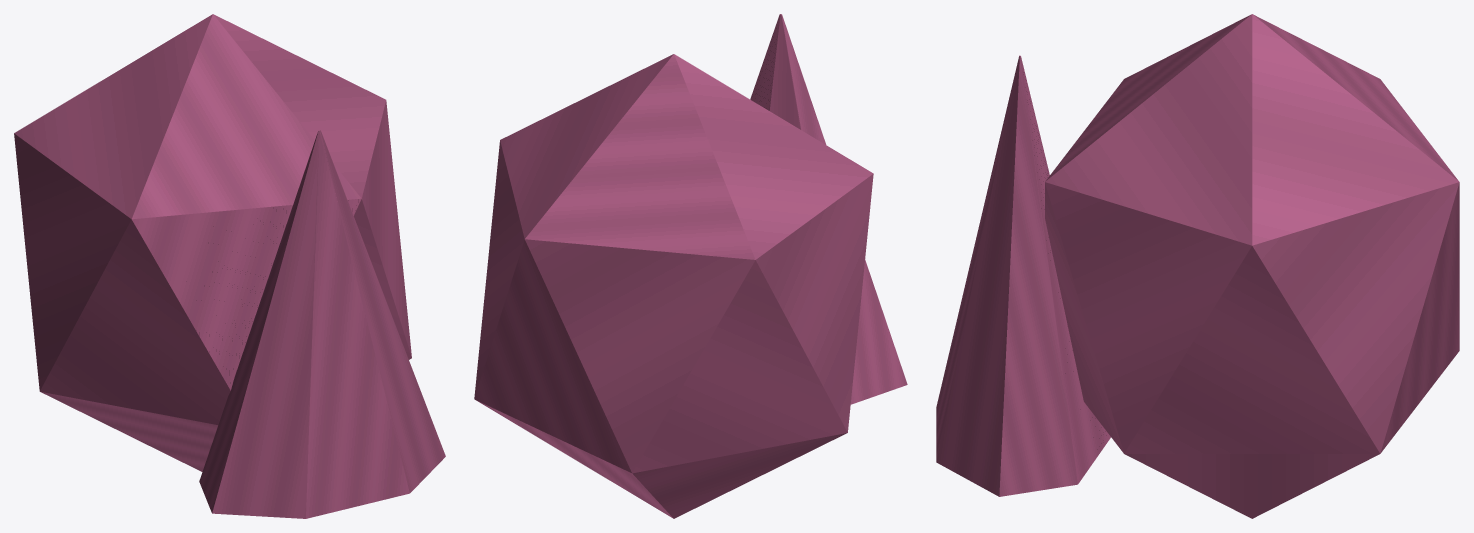
Rendered from frost_touch.glb.
The picture shows the model from 3 angles, left to right: view 1: azimuth 30°, elevation 25°; view 2: azimuth 150°, elevation 25°; view 3: azimuth 270°, elevation 25°; orthographic projection. The views are drawn at different scales.
Visible parts, largest first — view 1: gear_frost_touch; view 2: gear_frost_touch; view 3: gear_frost_touch.
Boxes of the visible parts, x1=… form: gear_frost_touch: x1=14, y1=14, x2=445, y2=518; gear_frost_touch: x1=474, y1=14, x2=907, y2=518; gear_frost_touch: x1=936, y1=14, x2=1459, y2=518.
Bounding box in the file's own units: 0.1878 × 0.24 × 0.2254.
Materials: 1 (1 with a texture image).
